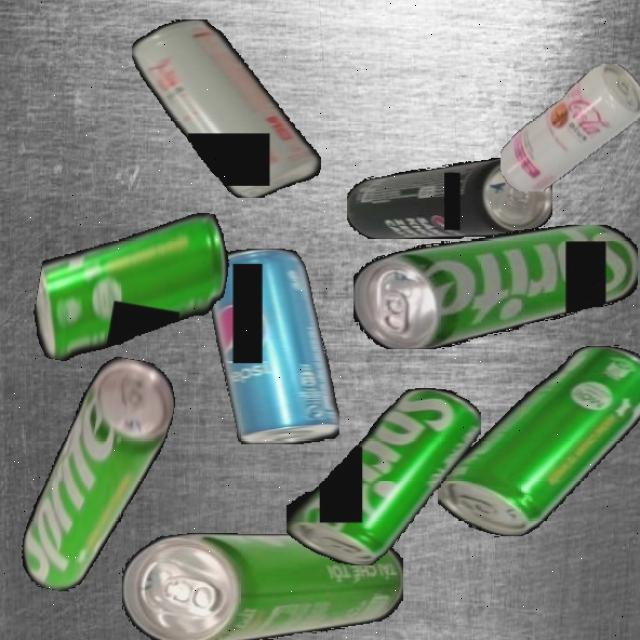debris: (16, 347, 181, 604), (27, 187, 237, 386), (437, 345, 640, 537), (353, 224, 638, 349), (285, 387, 481, 565), (132, 18, 321, 198), (122, 532, 403, 640), (208, 248, 340, 444), (499, 63, 640, 191), (346, 158, 552, 239)
